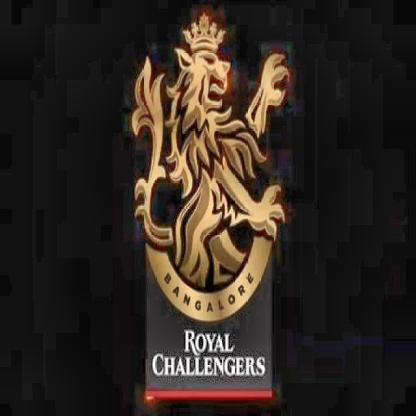Royal Challengers Bangalore: (133, 13, 285, 405)
